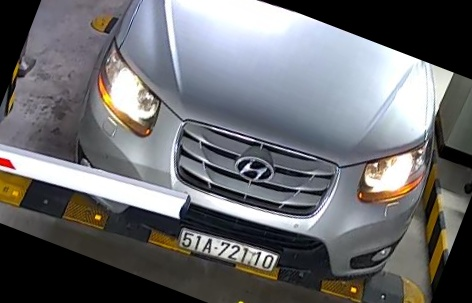plate: (177, 225, 281, 282)
